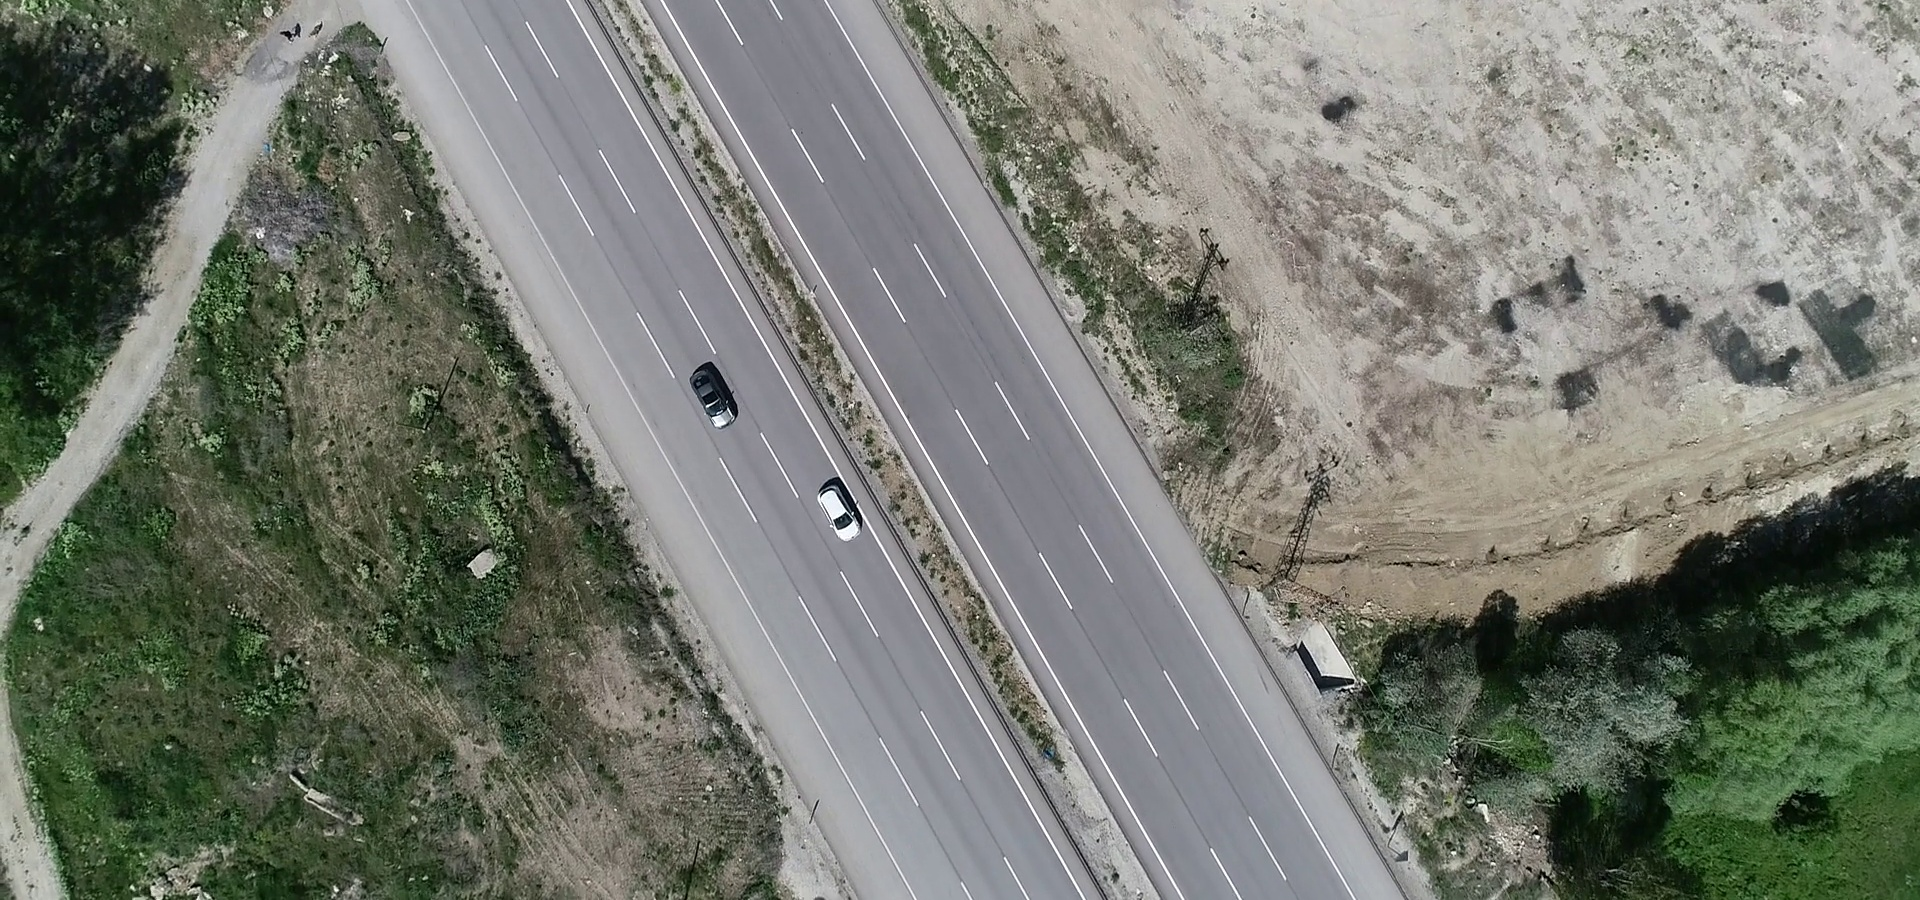arac: (684, 362, 733, 437), (814, 478, 867, 540)
